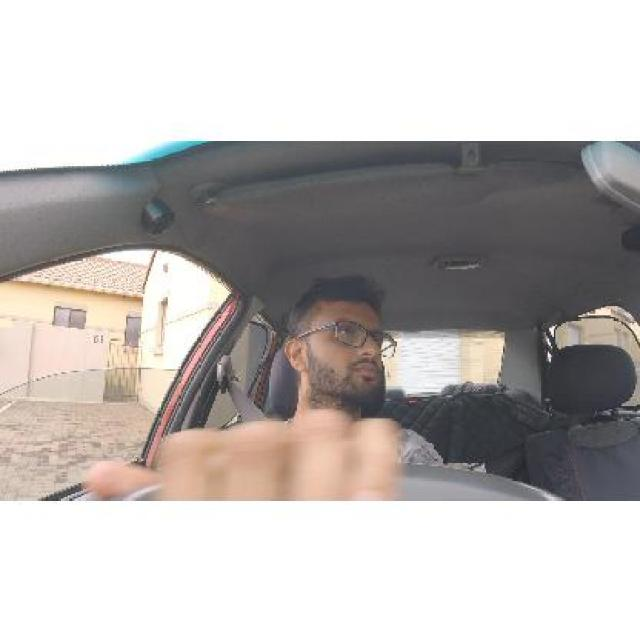LeftRight: (280, 270, 404, 416)
